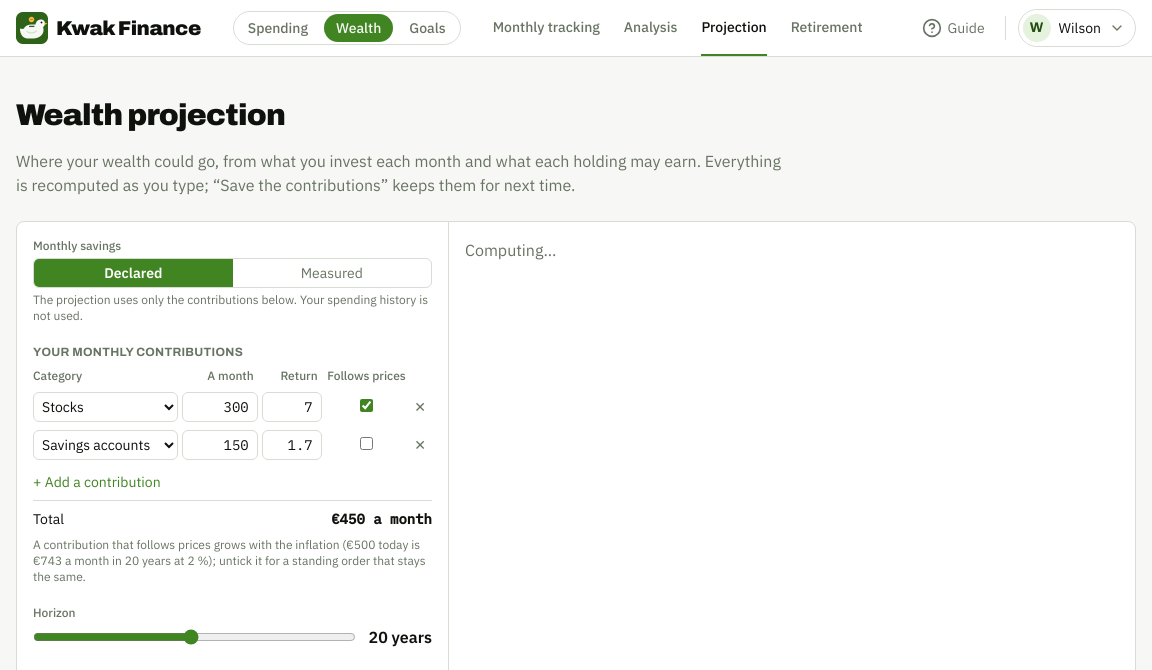
Test: typing a contribution reruns the projection without saving it, then saves it
Replace the text in the field named "Monthly amount for Stocks" with "400" at [220, 407], box [182,392,258,422]
(page scrolled)
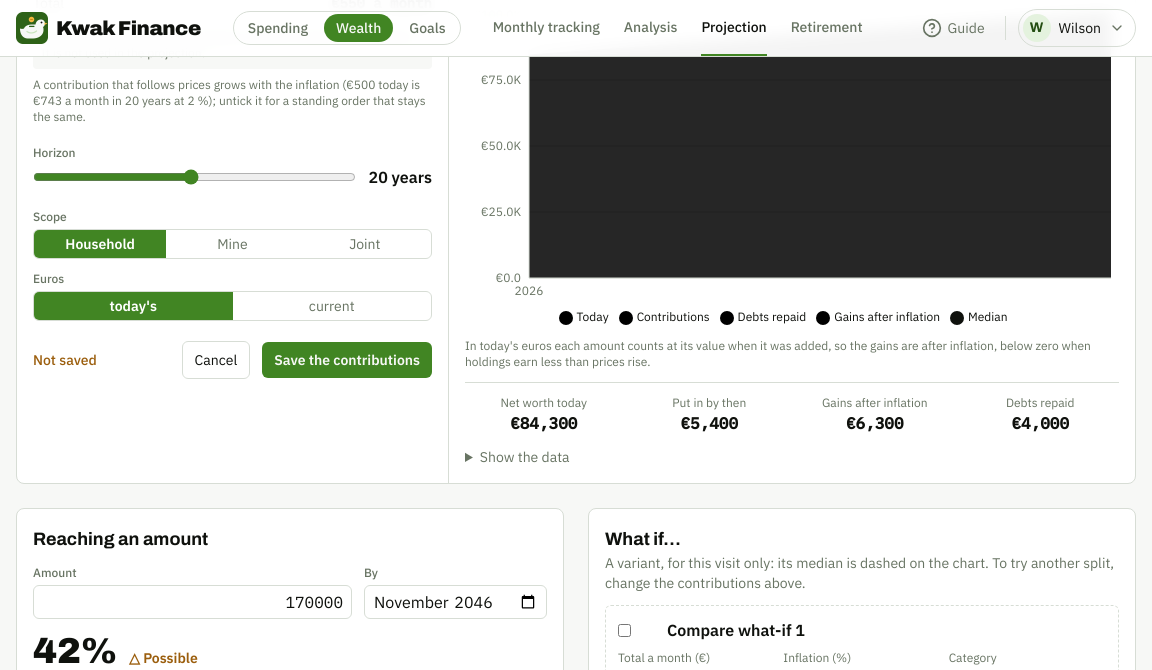
expect the text "Not saved" is shown: met, box [33,350,97,370]
Click the button "Save the contributions" at [347, 360], box [262,342,432,378]
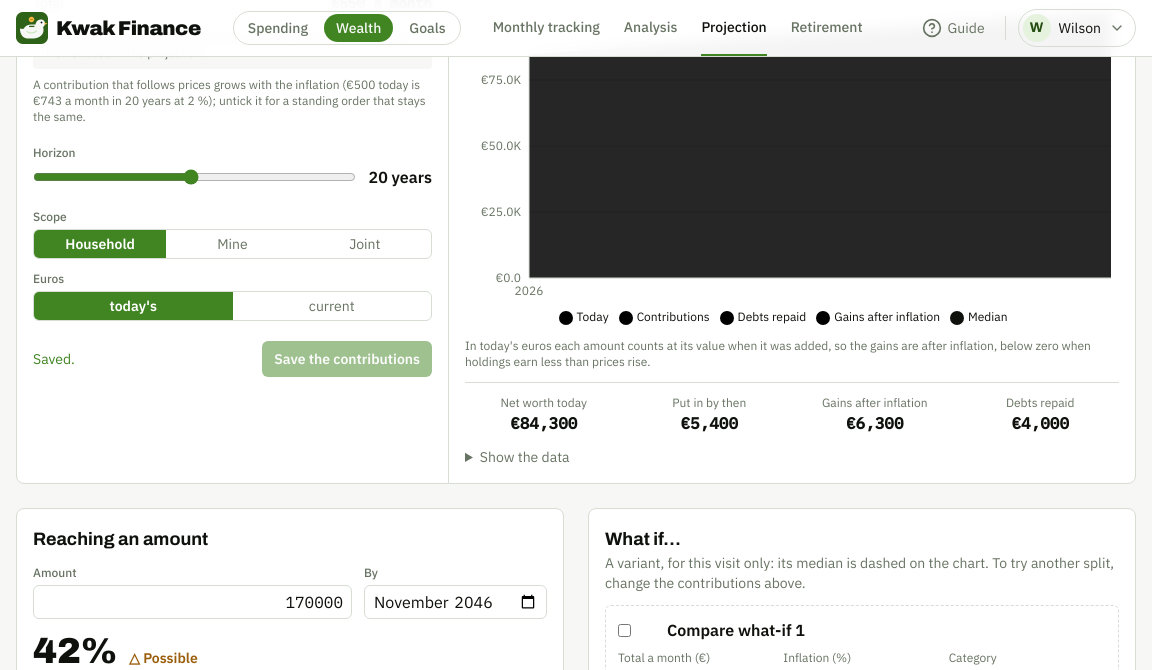
expect the text "Saved." is shown: met, box [33,349,75,369]
